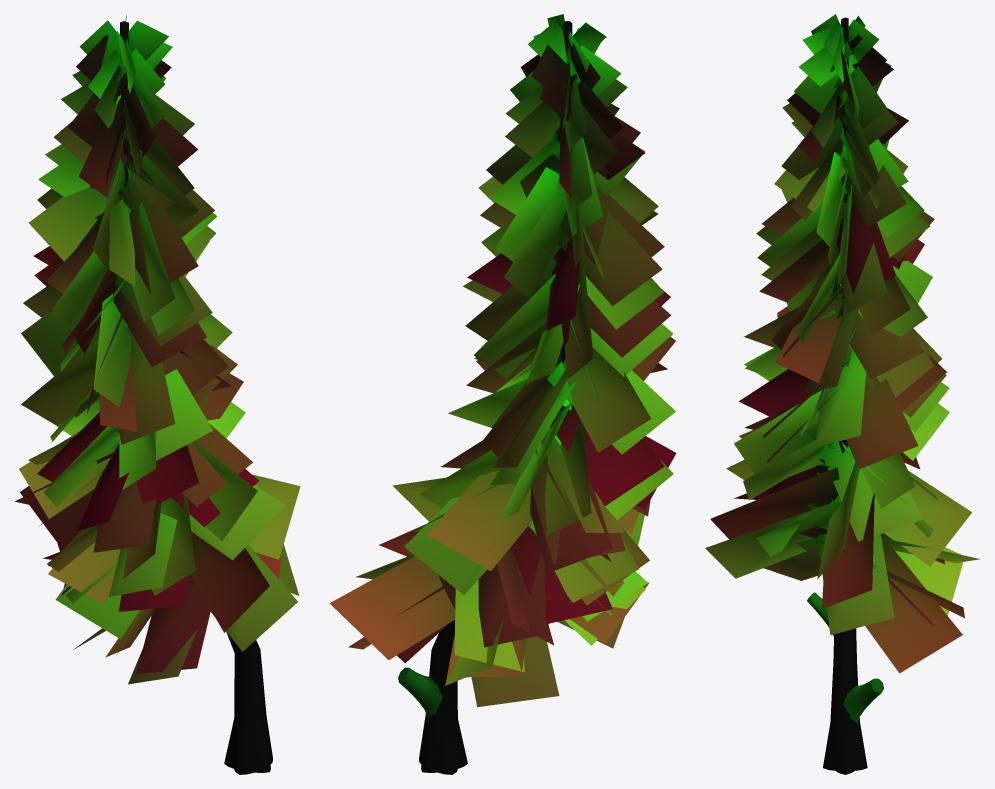
Rendered from M_Pine_2_13.fbx.
3 views of the same model, side by side, from view 1: azimuth 30°, elevation 25°; view 2: azimuth 150°, elevation 25°; view 3: azimuth 270°, elevation 25° (orthographic). The views are drawn at different scales.
Parts seen in each view (by area): view 1: Tree_13; view 2: Tree_13; view 3: Tree_13.
Boxes of the visible parts, x1,y1,x2,y2 form: Tree_13: (14,14,300,774); Tree_13: (329,14,676,774); Tree_13: (705,14,980,774).
Bounding box in the file's own units: 977 × 2601 × 937.
